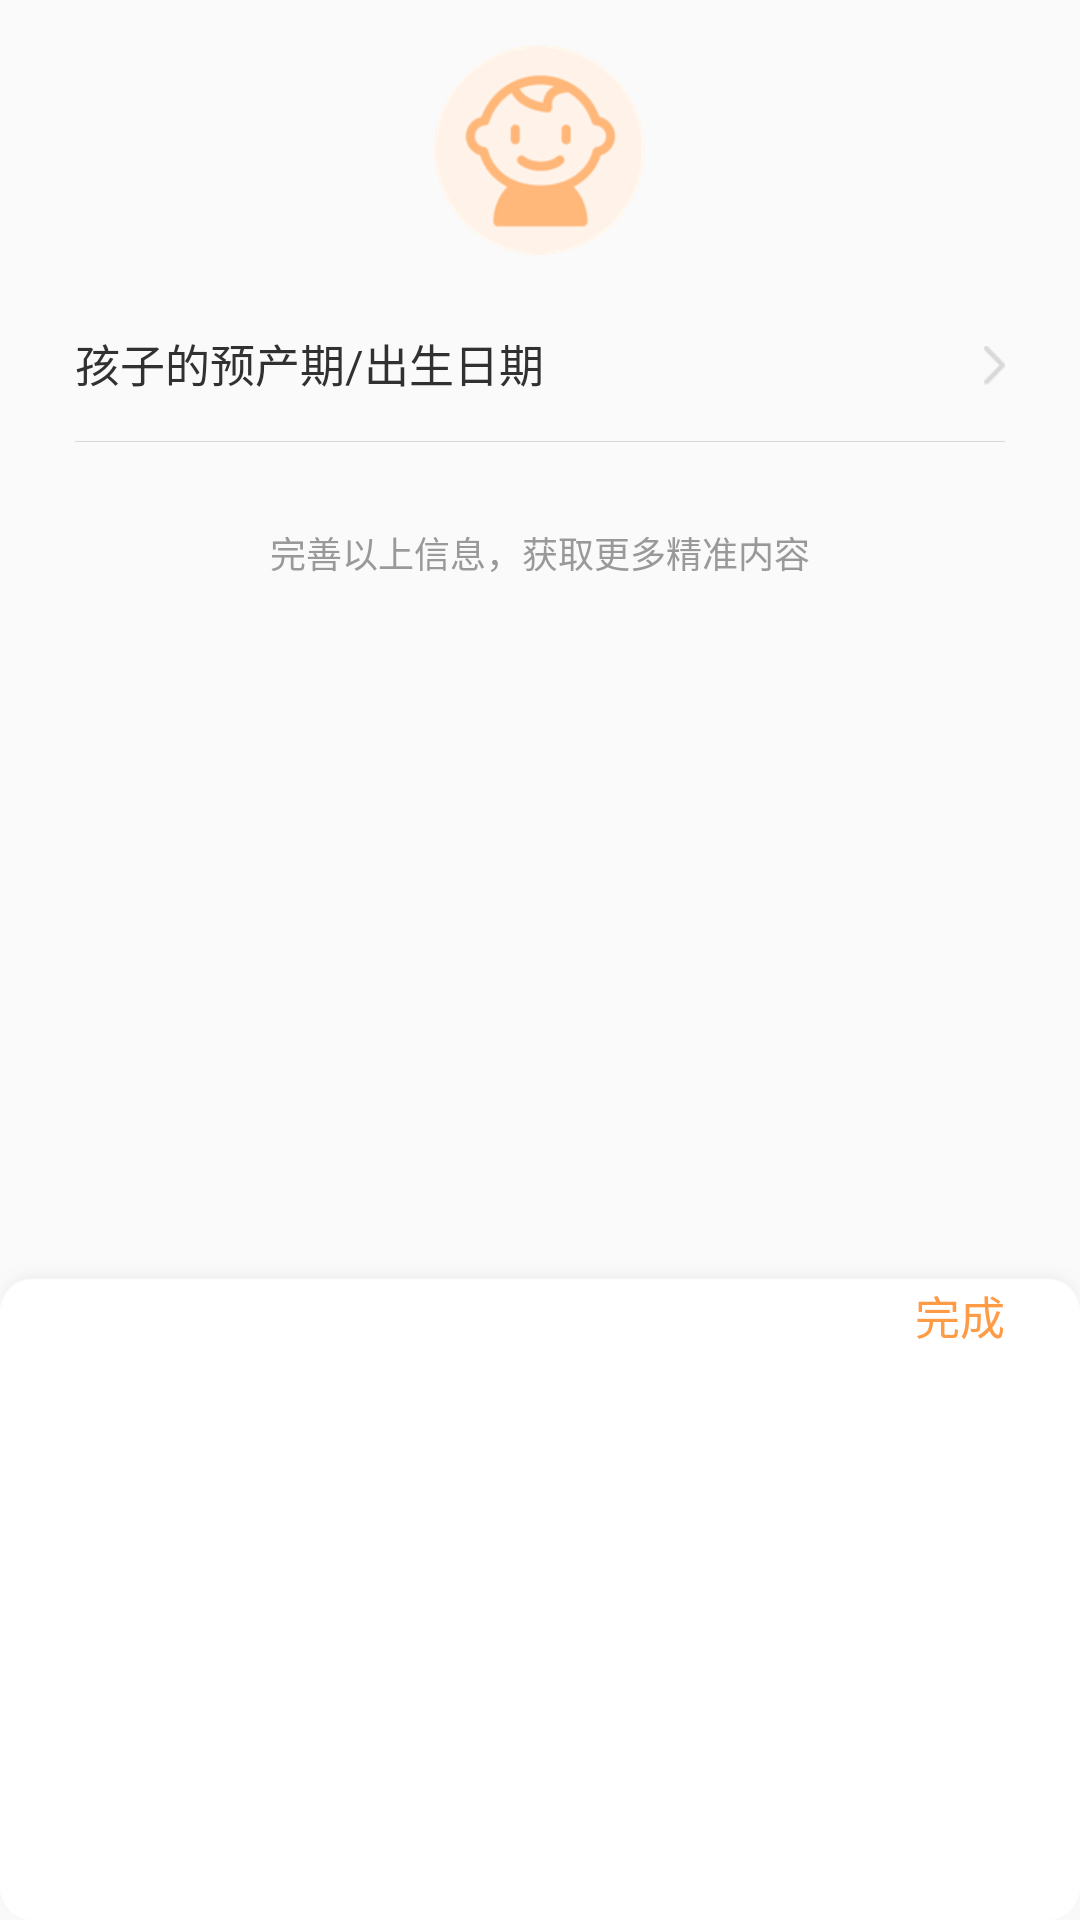

Locate icon controls on the screen. Image size 1080*1920, boxes as (x1, y1, x2, y2).
baby: (434, 45, 644, 255)
